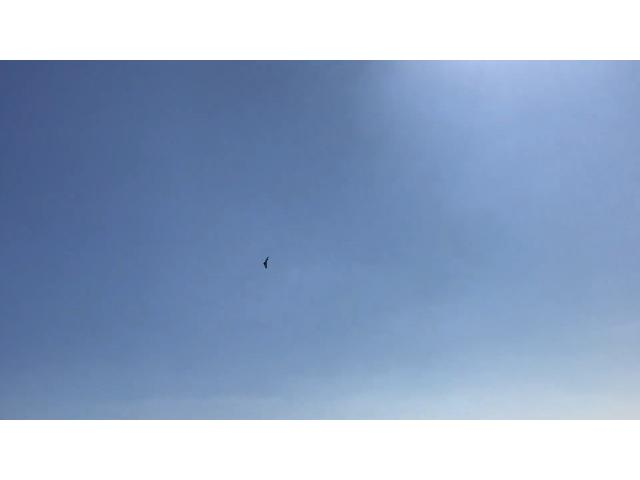Anti-Drone: (257, 247, 281, 273)
